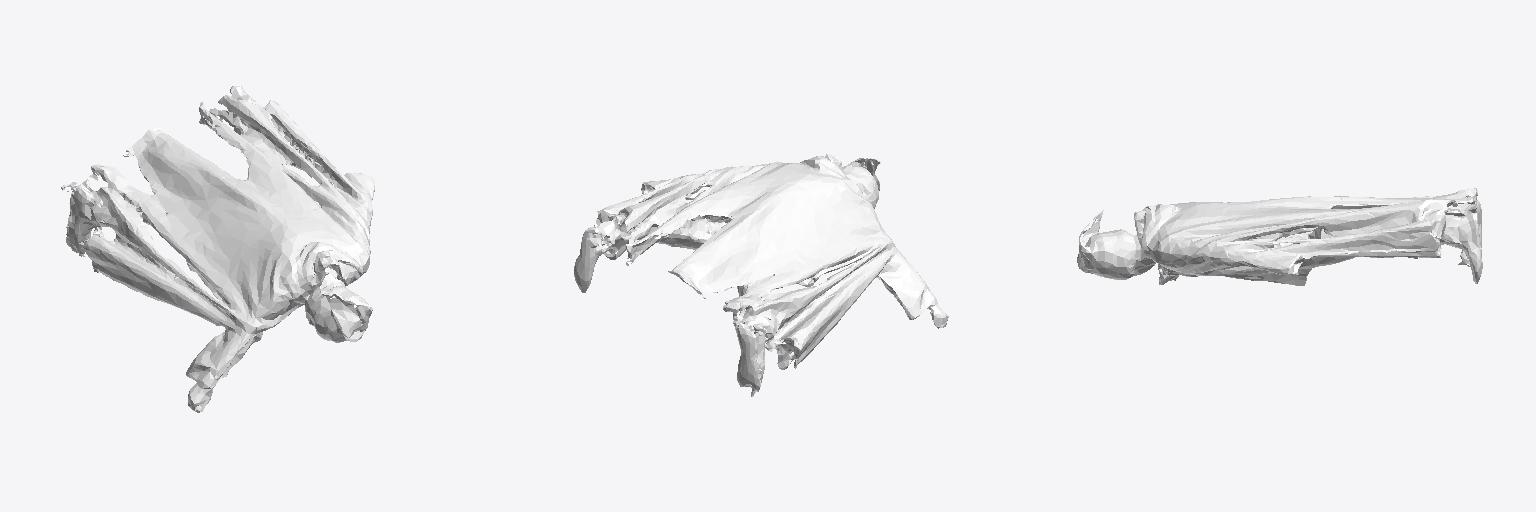
Rendered from Magicien.obj.
3 views of the same model, side by side, from view 1: azimuth 30°, elevation 25°; view 2: azimuth 150°, elevation 25°; view 3: azimuth 270°, elevation 25° (orthographic).
Bounding box in the file's own units: 1.12 × 0.7537 × 1.62.